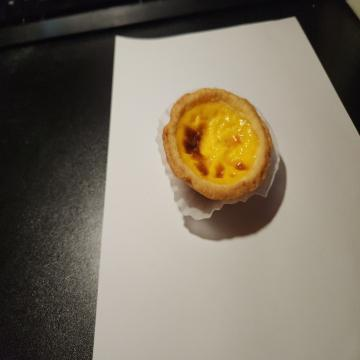EggTart: (162, 87, 273, 200)
